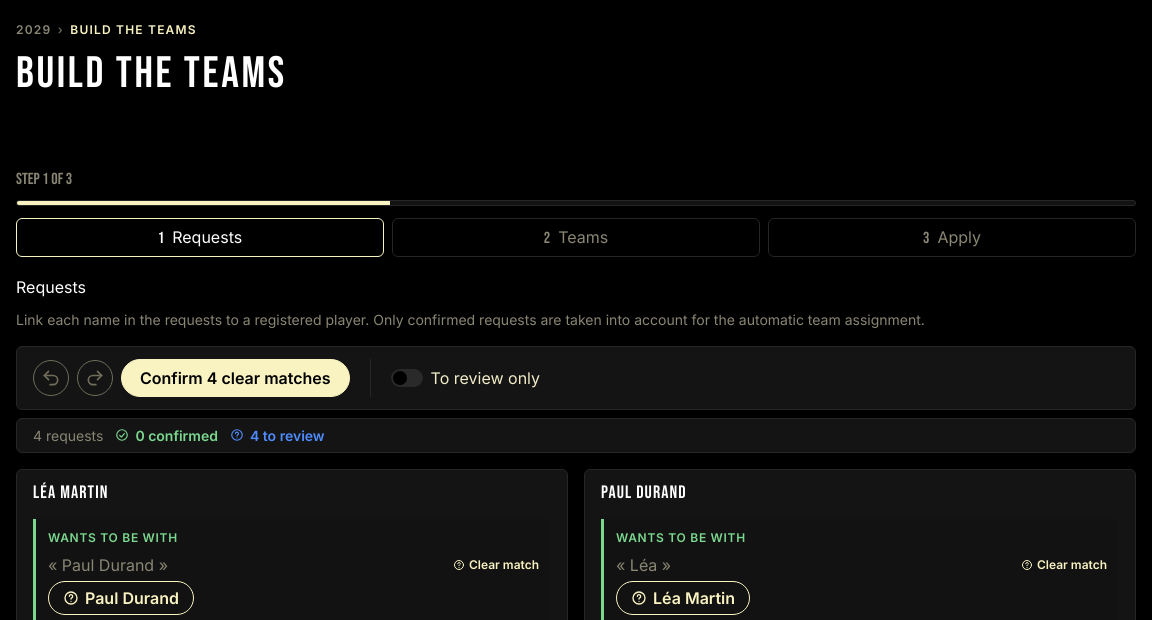
Scenario: team builder page › disables Apply while the draft is stale
What coordinates should you click on to do the following:
click the button "2 Teams"
I would click on:
 (576, 238)
Its box is [392,218,760,257].
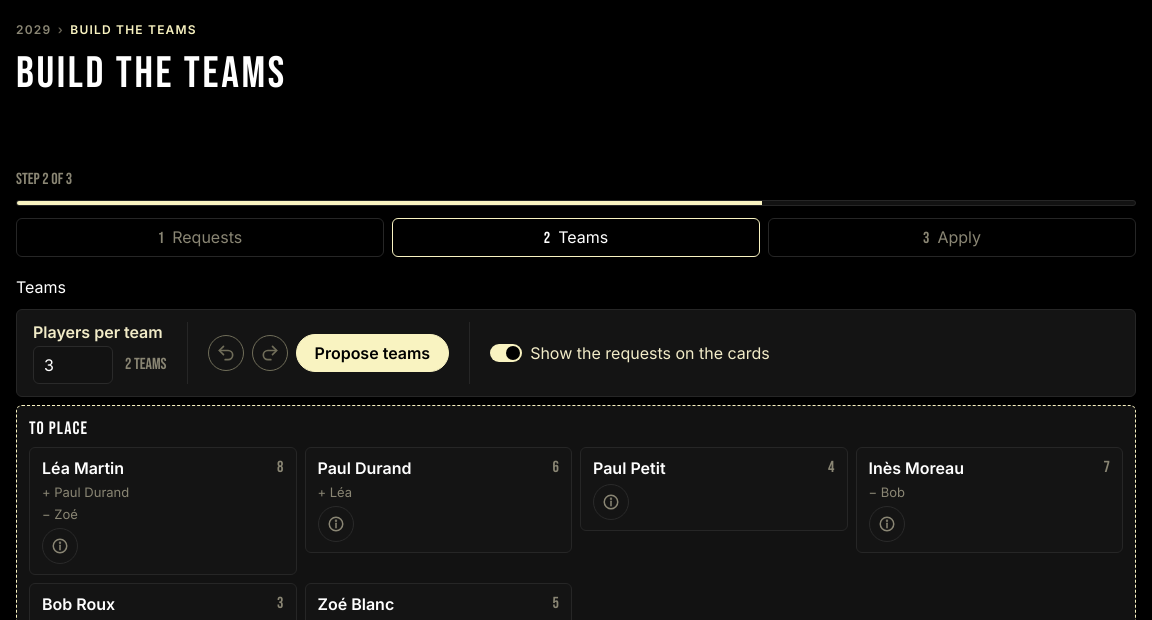
What coordinates should you click on to do the following:
click the button "Propose teams"
I would click on:
 (372, 353)
Its box is [296,334,449,372].
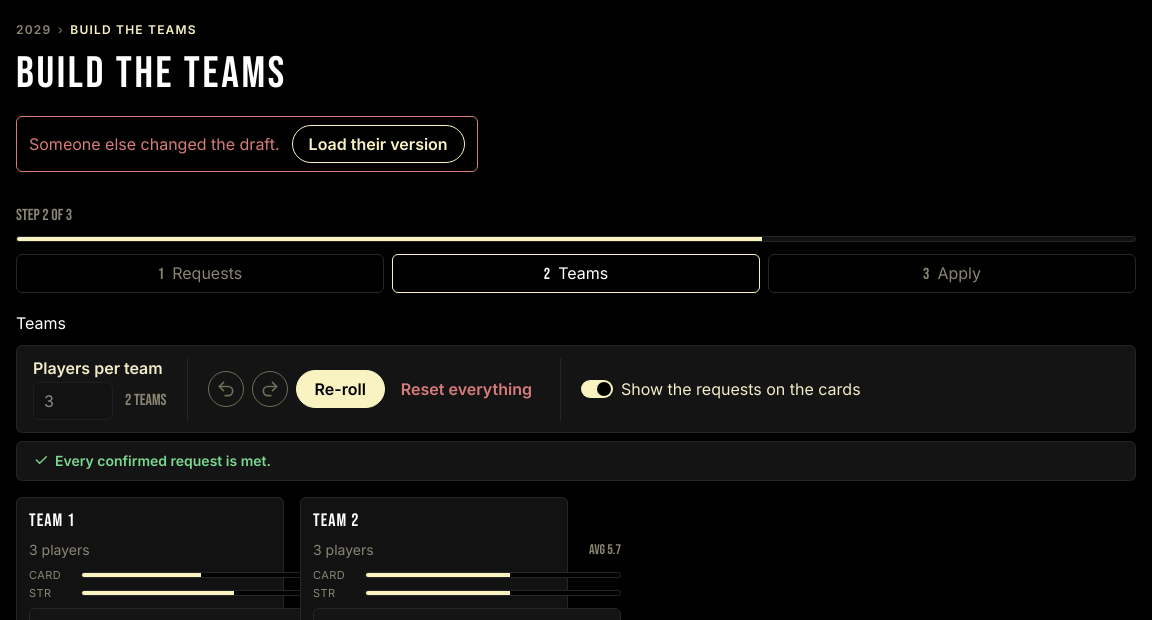
Expected: the text "Someone else changed the draft." is shown, [29,134,280,154]
What coordinates should you click on to do the following:
click the button "3 Apply"
I would click on:
 (952, 274)
Its box is [768,254,1136,293].
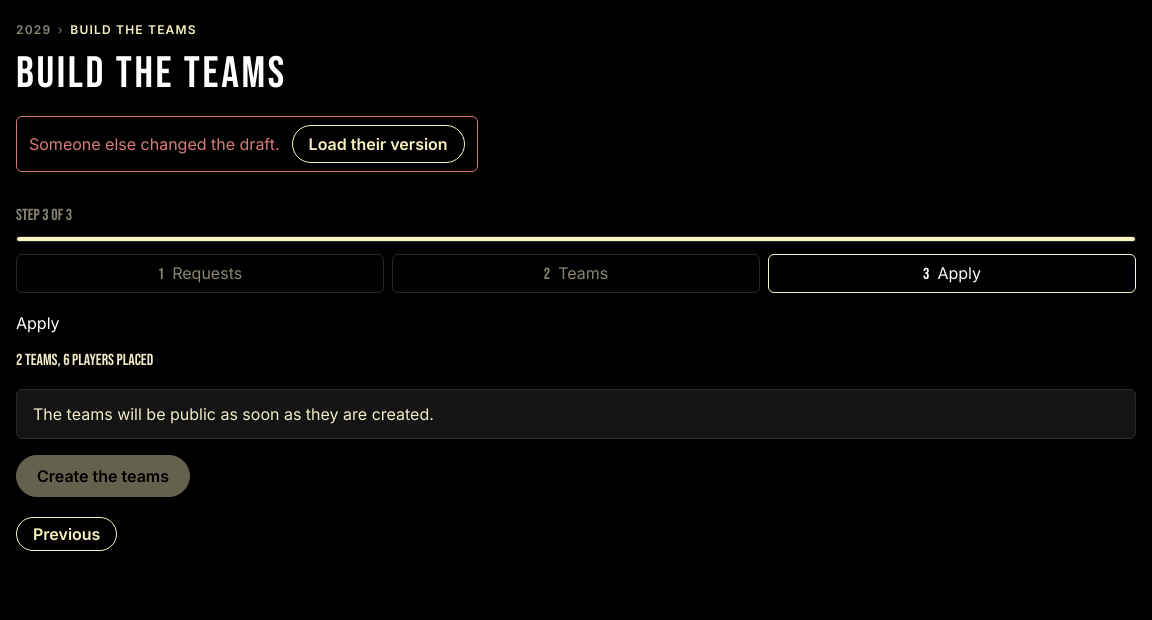
Expected: the button "Create the teams" is disabled, [16,455,190,497]
